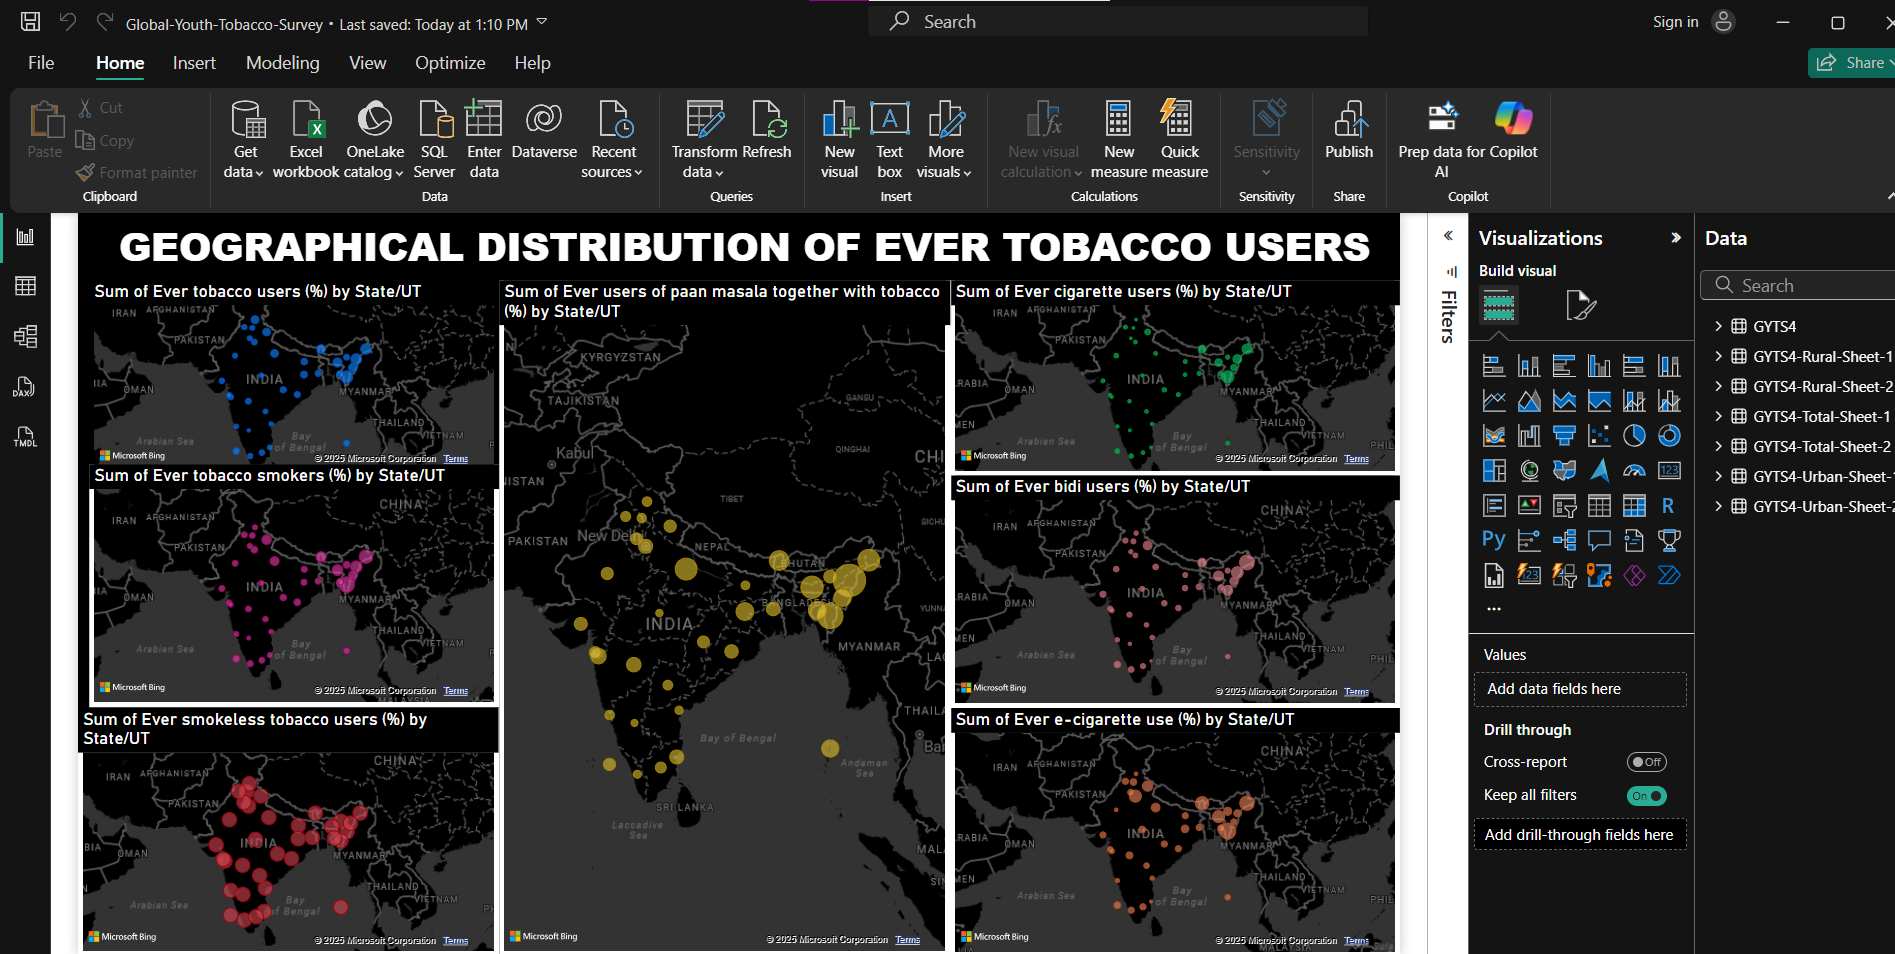

This screenshot's page, from the dashboard's own definition file:
{"tool":"powerbi","page":{"name":"Page 2","canvas":[1280,720],"ordinal":1},"visuals":[{"type":"textbox","box":[10.6,0,1269.7,66.1],"z":0},{"type":"map","fields":{"Category":["GYTS4-Total-Sheet-1.State/UT"],"Size":["Sum(GYTS4-Total-Sheet-1.Ever tobacco users (%))"]},"box":[10.6,64.8,396.8,189.1],"z":1000},{"type":"map","fields":{"Category":["GYTS4-Total-Sheet-1.State/UT"],"Size":["Sum(GYTS4-Total-Sheet-1.Ever tobacco smokers (%))"]},"box":[10.6,243.4,396.8,235.4],"z":2000},{"type":"map","fields":{"Category":["Sheet1.State/UT"],"Size":["Sum(GYTS4-Total-Sheet-1.Ever smokeless tobacco users (%))"]},"box":[0,478.8,407.4,240.7],"z":3000},{"type":"map","fields":{"Size":["Sum(GYTS4-Total-Sheet-1.Ever cigarette users (%))"],"Category":["GYTS4-Total-Sheet-1.State/UT"]},"box":[845.1,64.8,435.1,189.1],"z":4000},{"type":"map","fields":{"Size":["Sum(GYTS4-Total-Sheet-1.Ever bidi users (%) )"],"Category":["GYTS4-Total-Sheet-1.State/UT"]},"box":[845.1,253.9,435.1,224.8],"z":5000},{"type":"map","fields":{"Size":["Sum(GYTS4-Total-Sheet-1.Ever e-cigarette use (%))"],"Category":["GYTS4-Total-Sheet-1.State/UT"]},"box":[845.1,478.8,435.1,240.7],"z":6000},{"type":"map","fields":{"Size":["Sum(GYTS4-Total-Sheet-1.Ever users of  paan masala together with tobacco (%))"],"Category":["GYTS4-Total-Sheet-1.State/UT"]},"box":[407.4,65.4,437.2,654.3],"z":7000}]}

Visuals, with their boxes on the page's 1280x720 design canvas (x1, y1, x2, y2). These are canvas units, not pixel positions in the 1895x954 screenshot, which may show the page scaled, cropped or inside an application window:
textbox: 11/0/1280/66
map - GYTS4-Total-Sheet-1.State/UT x Sum(GYTS4-Total-Sheet-1.Ever tobacco users (%)): 11/65/407/254
map - GYTS4-Total-Sheet-1.State/UT x Sum(GYTS4-Total-Sheet-1.Ever tobacco smokers (%)): 11/243/407/479
map - Sheet1.State/UT x Sum(GYTS4-Total-Sheet-1.Ever smokeless tobacco users (%)): 0/479/407/720
map - Sum(GYTS4-Total-Sheet-1.Ever cigarette users (%)) x GYTS4-Total-Sheet-1.State/UT: 845/65/1280/254
map - Sum(GYTS4-Total-Sheet-1.Ever bidi users (%) ) x GYTS4-Total-Sheet-1.State/UT: 845/254/1280/479
map - Sum(GYTS4-Total-Sheet-1.Ever e-cigarette use (%)) x GYTS4-Total-Sheet-1.State/UT: 845/479/1280/720
map - Sum(GYTS4-Total-Sheet-1.Ever users of  paan masala together with tobacco (%)) x GYTS4-Total-Sheet-1.State/UT: 407/65/845/720
